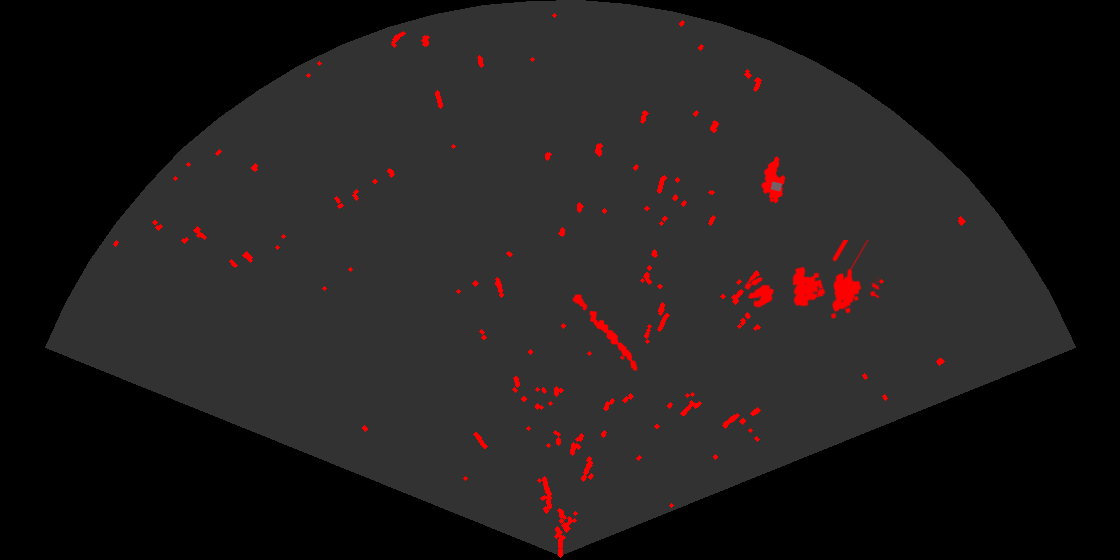AUV: (760, 155, 787, 205)
ball: (743, 275, 776, 310)
cage: (791, 240, 879, 320)
chain: (571, 293, 639, 372)
